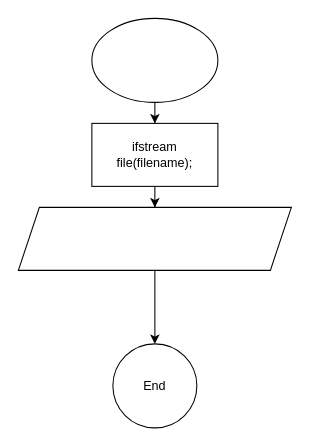
Image size: 310x446. Some labels were removed from this diagram. The shapes that lost their labels are listed below. From the top down, each one's centre as x and y in pixels, then its label:
pixel 154 59: Start
pixel 154 238: if (!file.is_open()) { Display "Error opening file." << endl;
